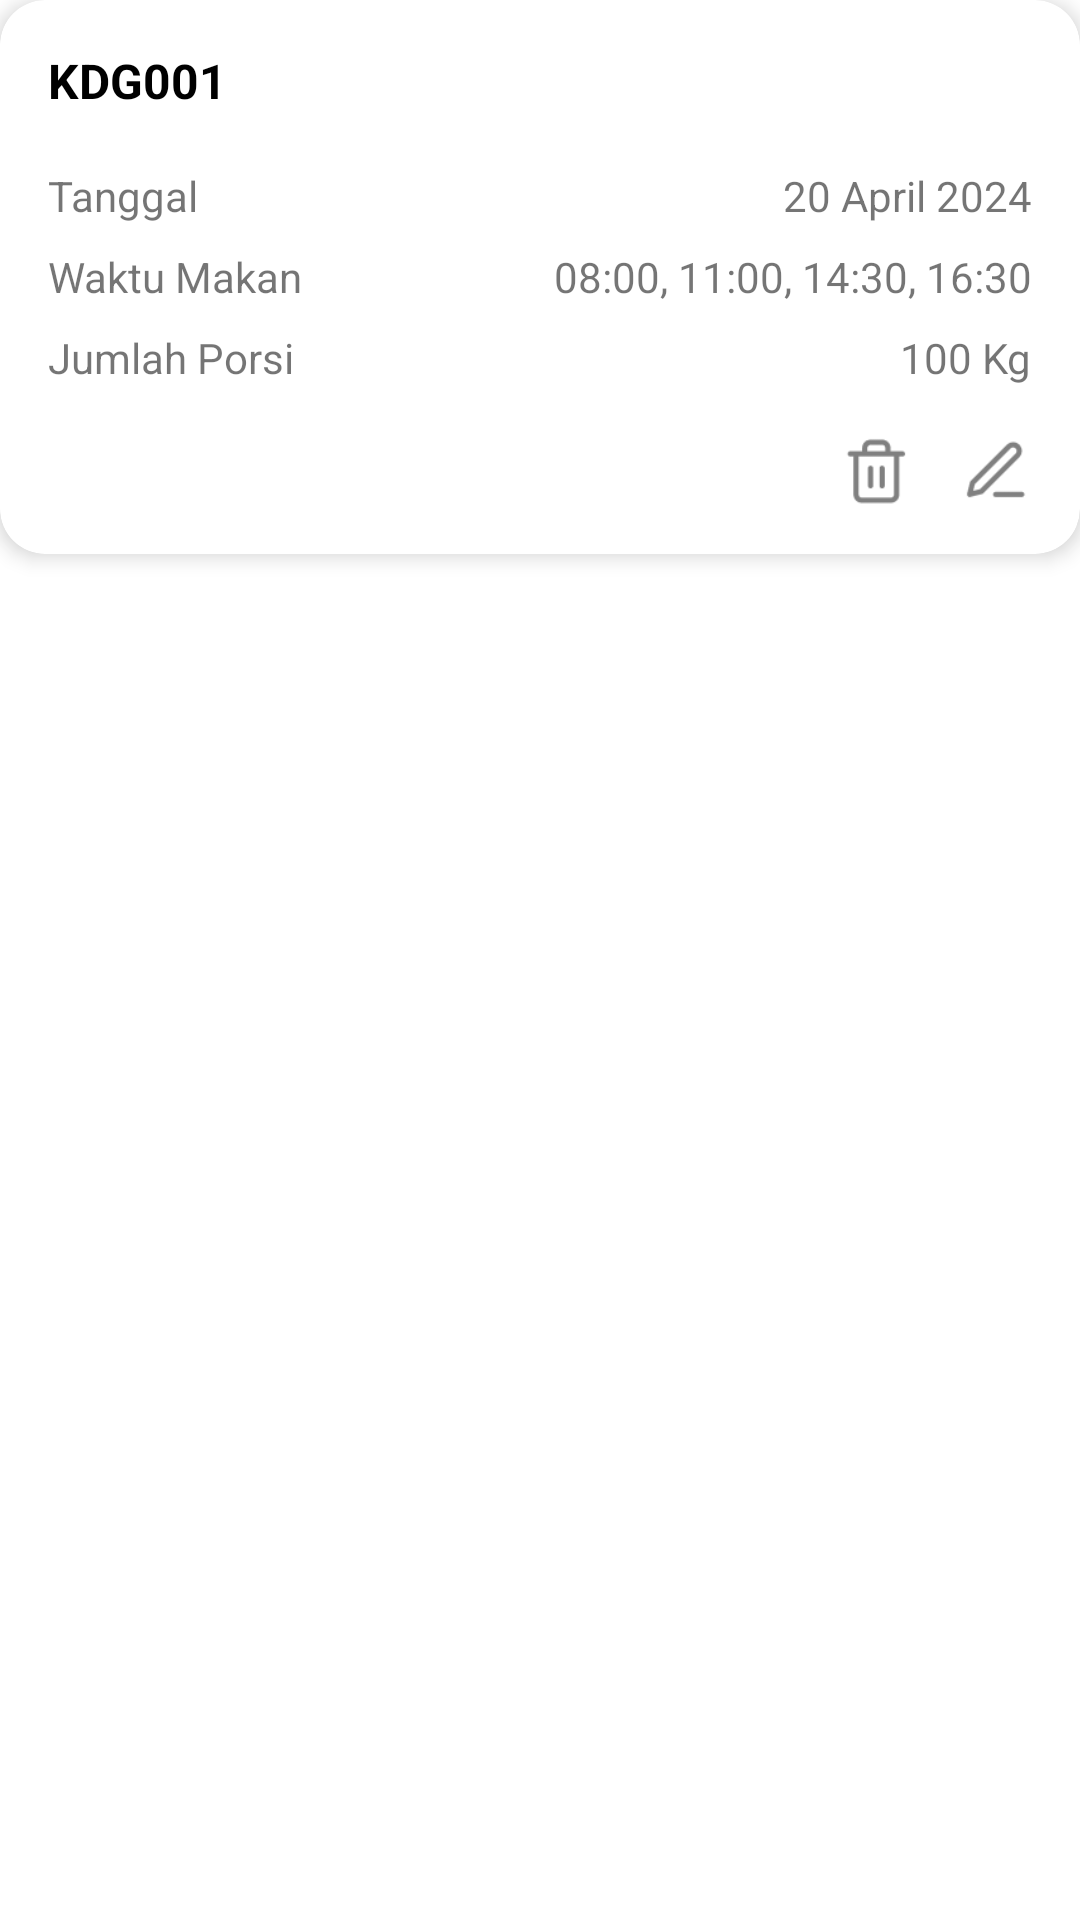

Named icons in this screenshot (1080 × 1920) and their bounding boxes, (left=x1, top=y1, right=x2, bottom=y2):
delete: (left=847, top=439, right=905, bottom=504)
edit: (left=967, top=441, right=1025, bottom=498)
